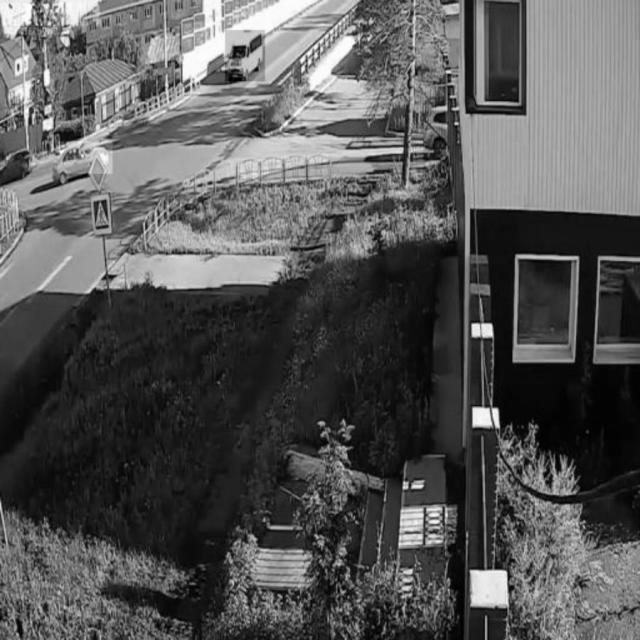vehicle: (226, 30, 266, 81), (58, 141, 113, 173)
